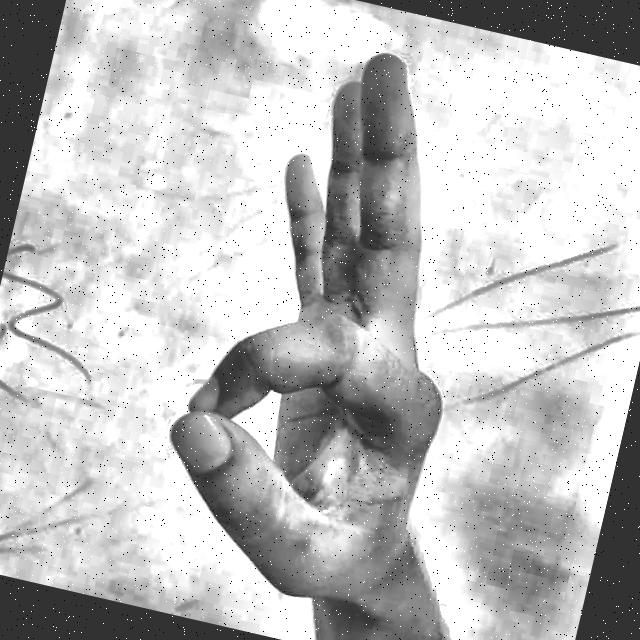Ca: (84, 0, 612, 640)
